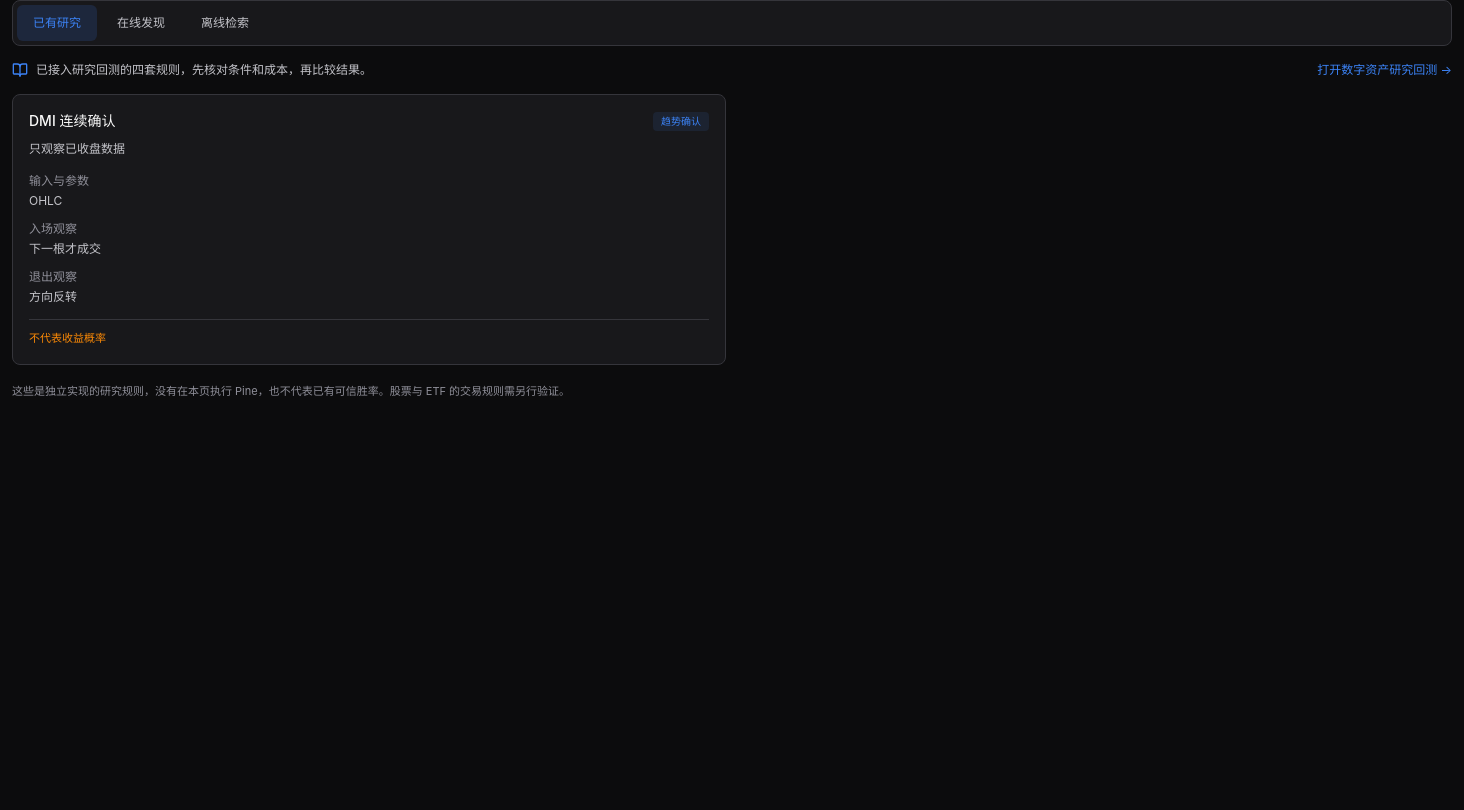
releases the previous source when selecting another script without leaking it into a failed result
Click the tab "在线发现" at x=141, y=23, box [101,5,181,41]
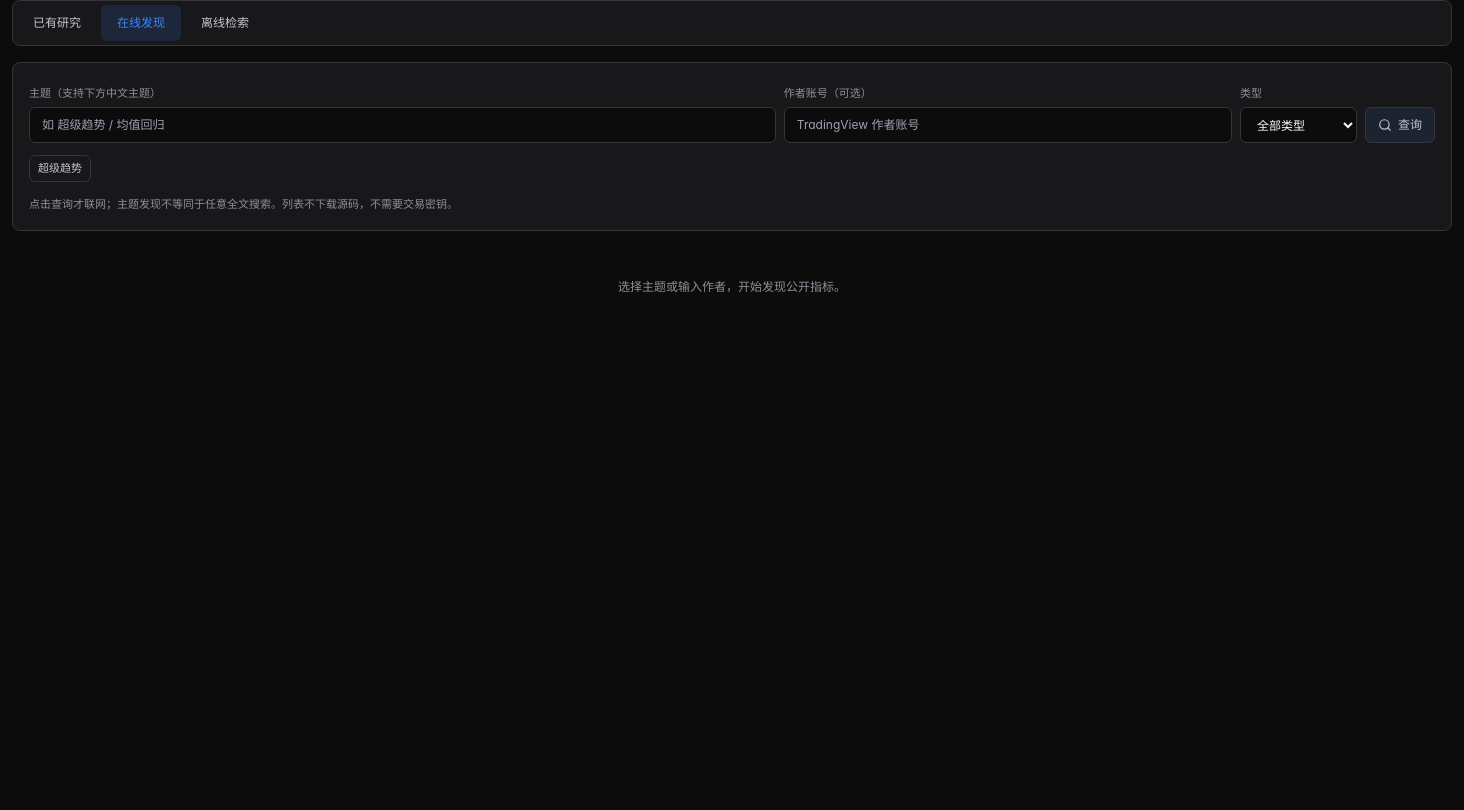
Click the button "超级趋势" at x=60, y=168, box [29,155,91,182]
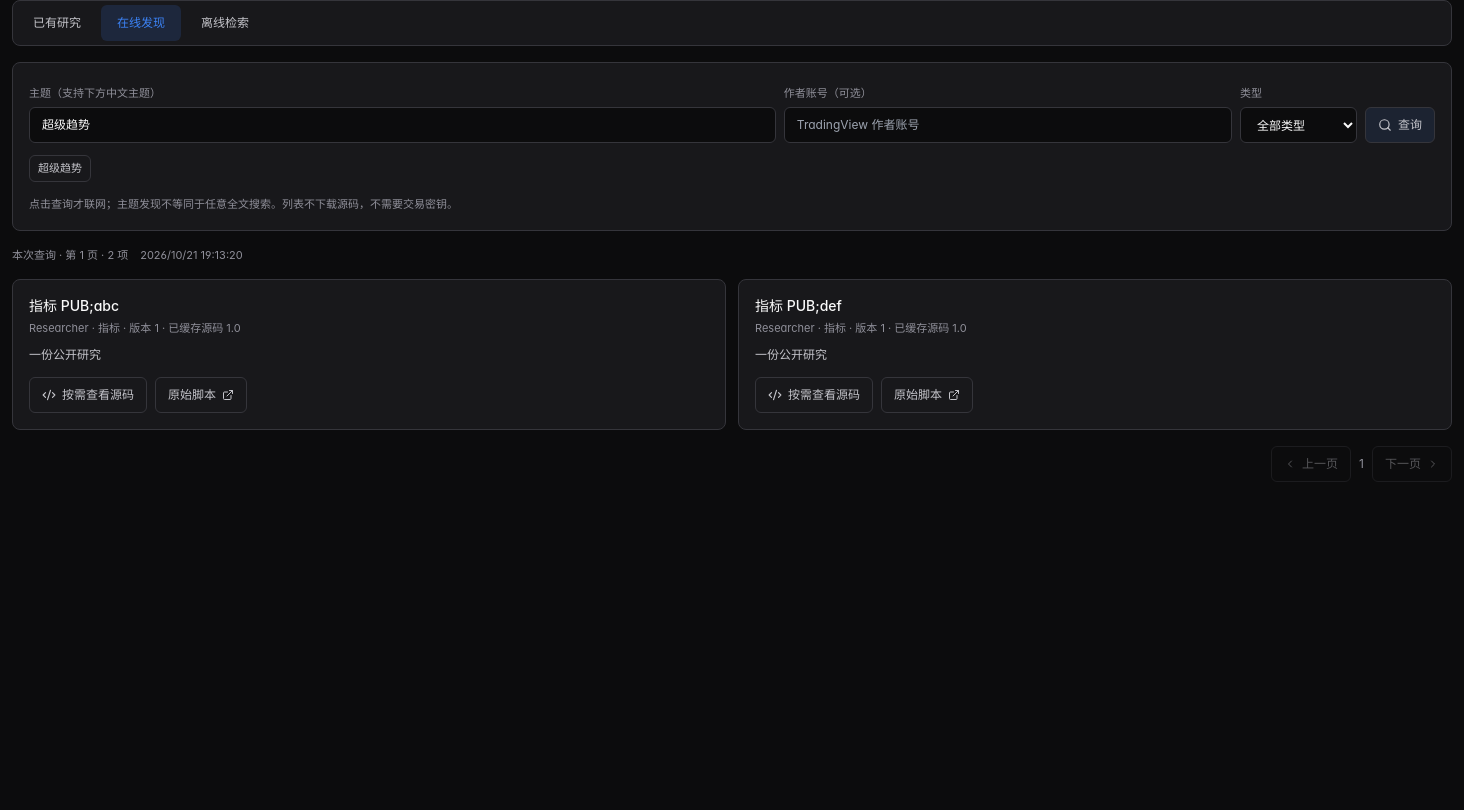
Click the button "按需查看源码" below "指标 PUB;abc" at x=88, y=394, box [29,376,147,412]
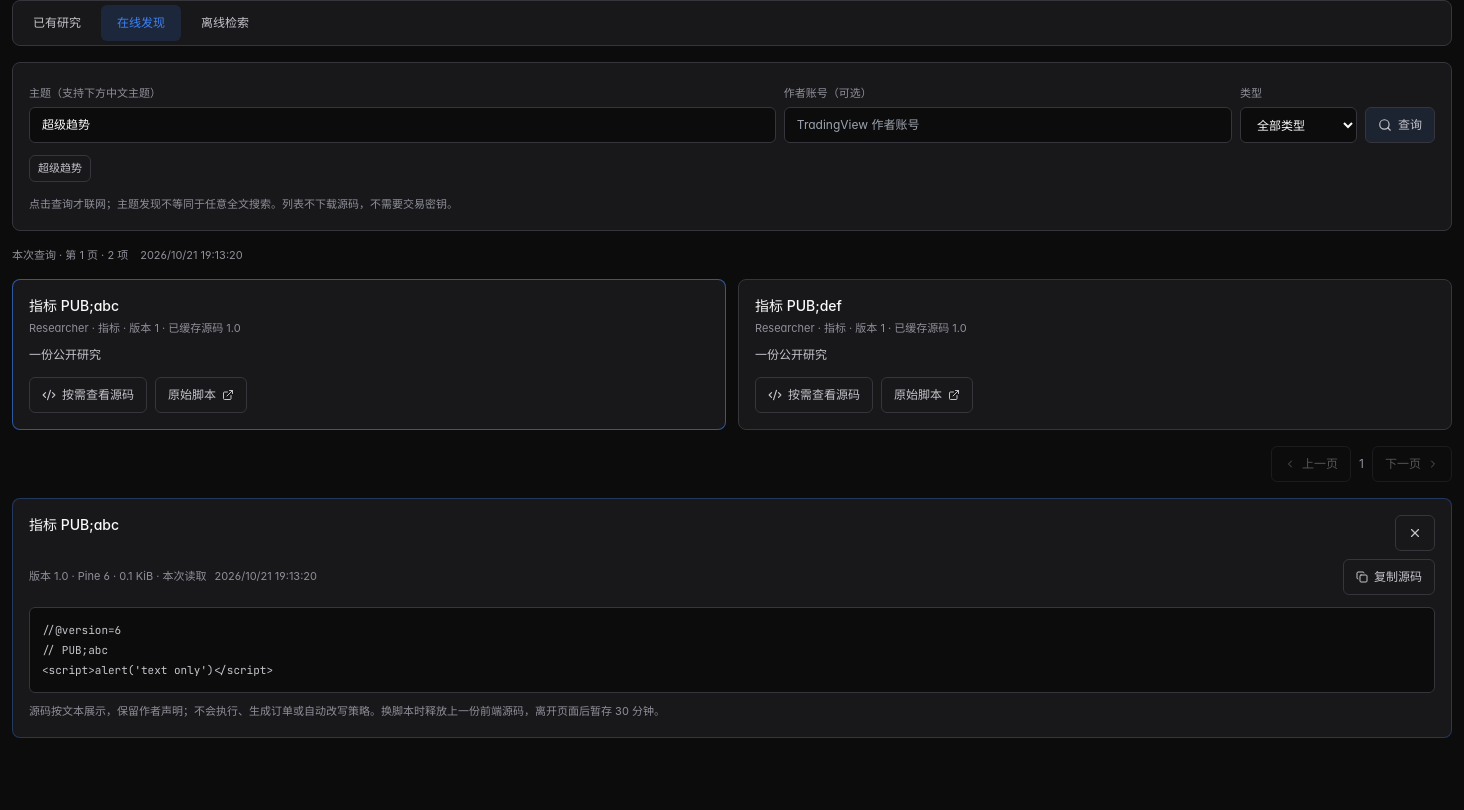
Click the button "按需查看源码" below "指标 PUB;def" at x=814, y=394, box [755,376,873,412]
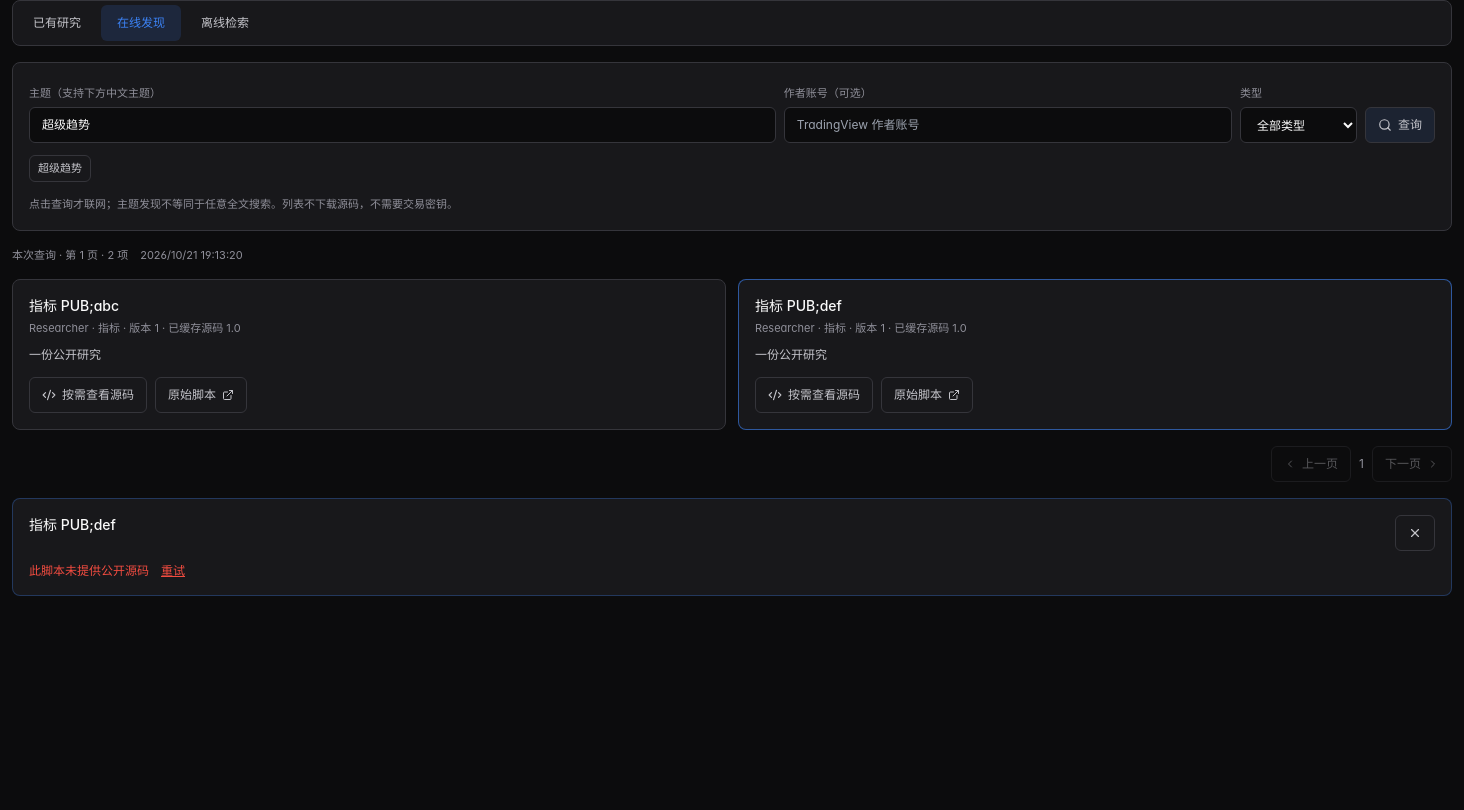
Now the text "此脚本未提供公开源码" is shown, box [29,562,149,578]
